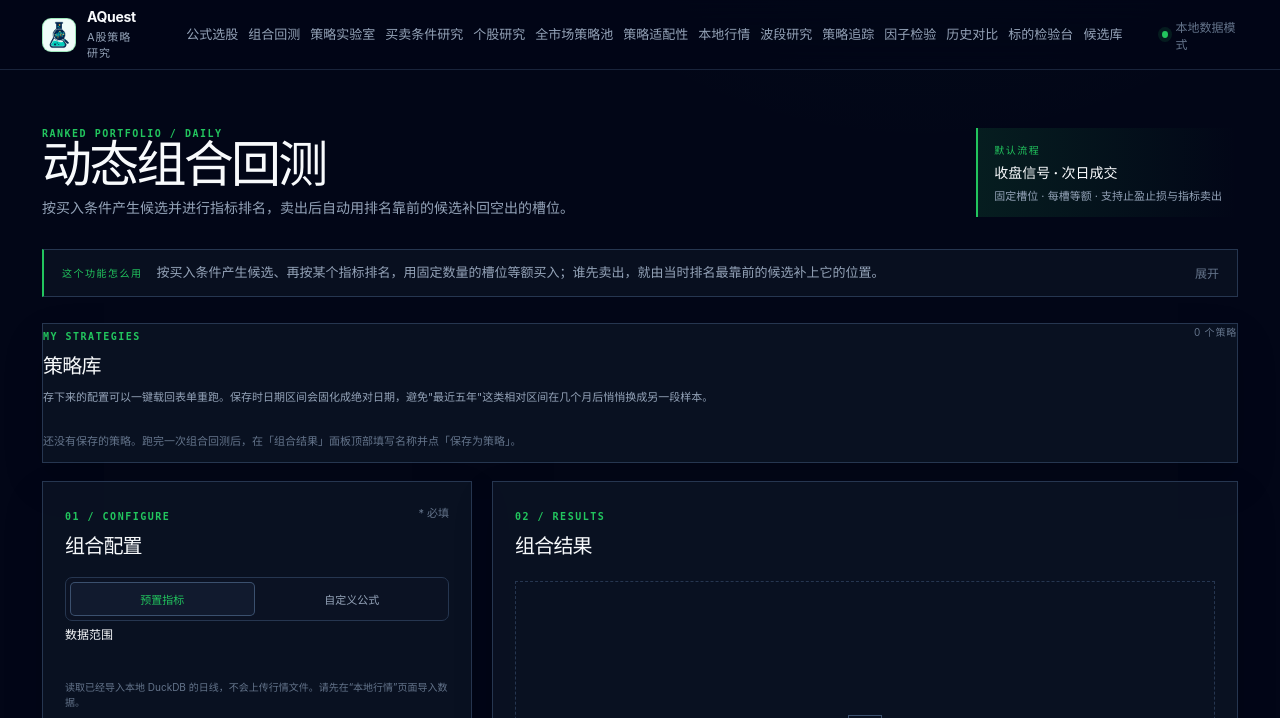
Scenario: PortfolioBacktestPage › parses custom formula outputs and invalidates selections after editing
Step 1. Click the tab with test id "portfolio-mode-custom" → [352, 599], box [260,582,444,616]
(page scrolled)
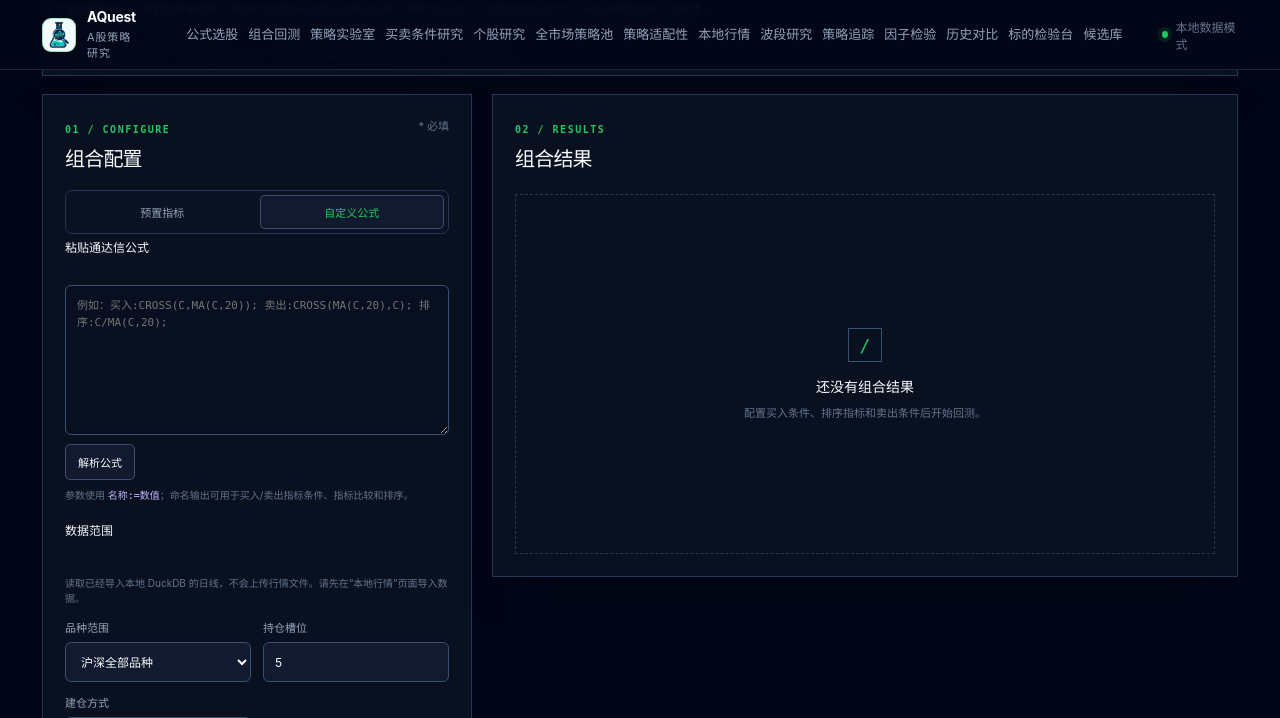
Step 2. Replace the text in the text box with test id "portfolio-formula" with "N:=5; 买入:C>10; 卖出:C<10; 排序:C;" → [257, 360], box [65,285,449,435]
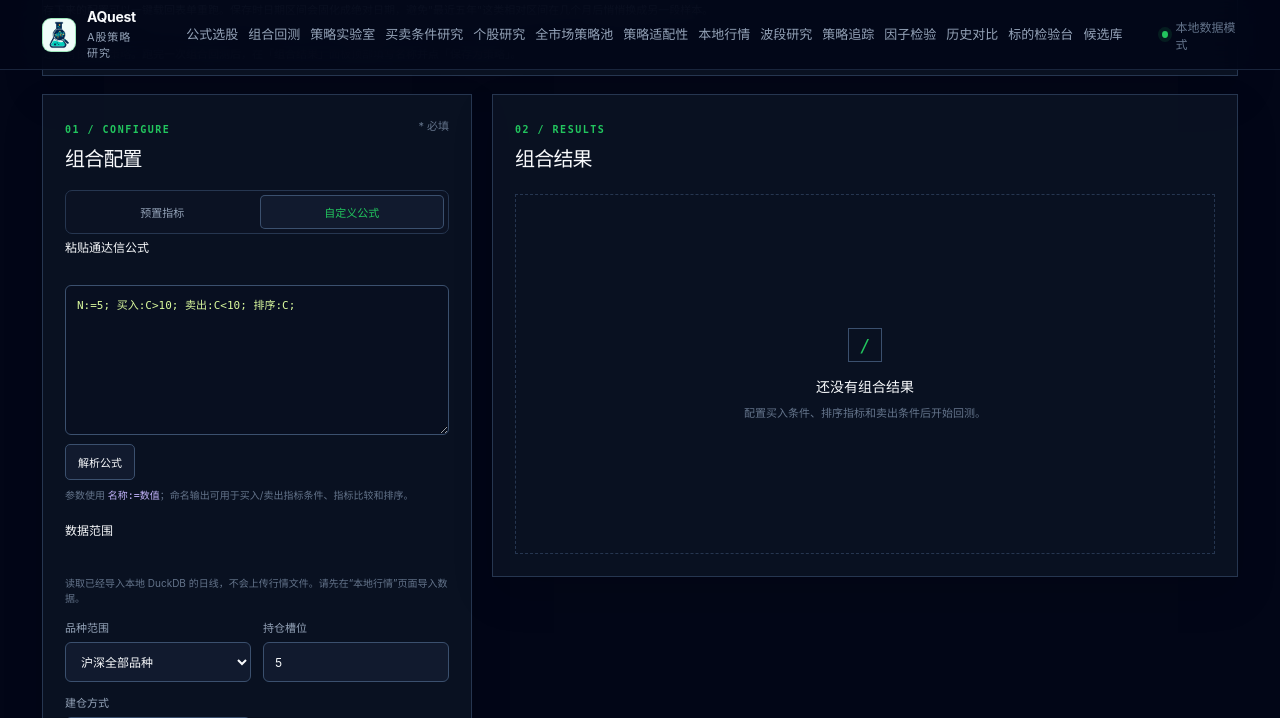
Step 3. Click the button with test id "portfolio-parse-formula" → [100, 462], box [65,444,135,480]
(page scrolled)
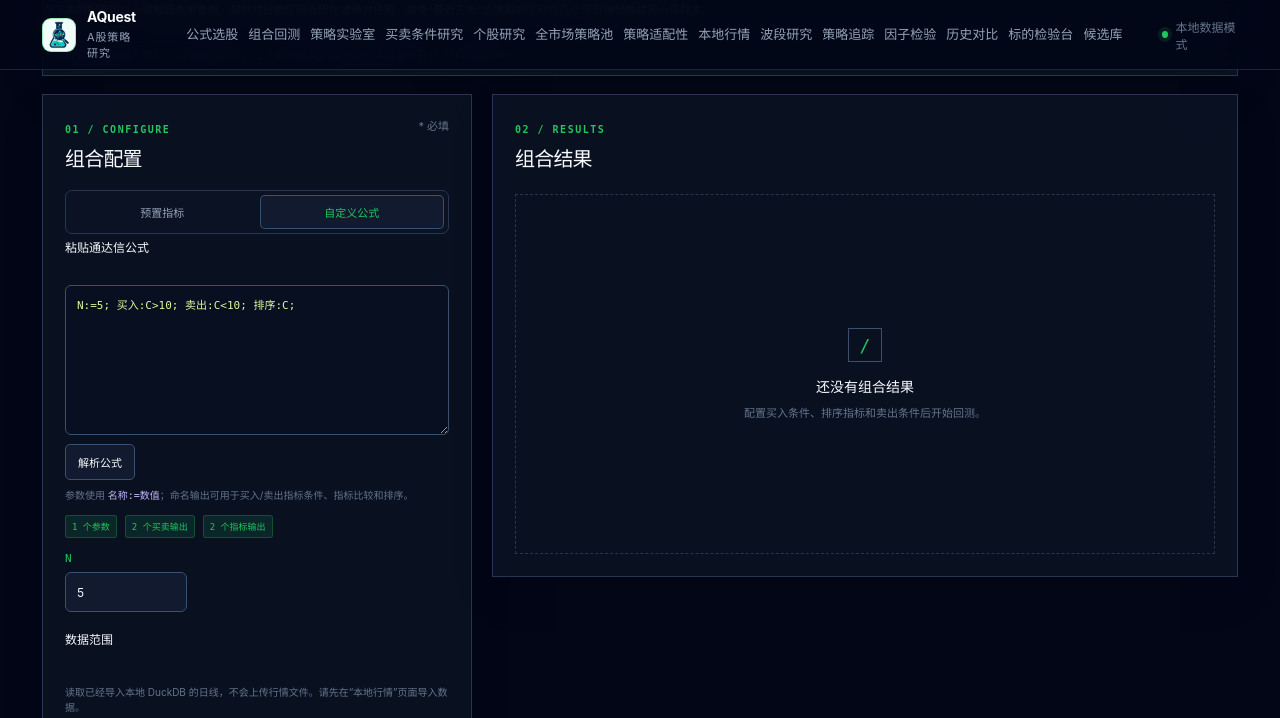
expect the number field with test id "portfolio-param-N" is shown: met, box [65,572,187,612]
Step 4. Replace the text in the text box with test id "portfolio-formula" with "N:=8; 买入:C>10; 卖出:C<10; 排序:C;" → [257, 360], box [65,285,449,435]
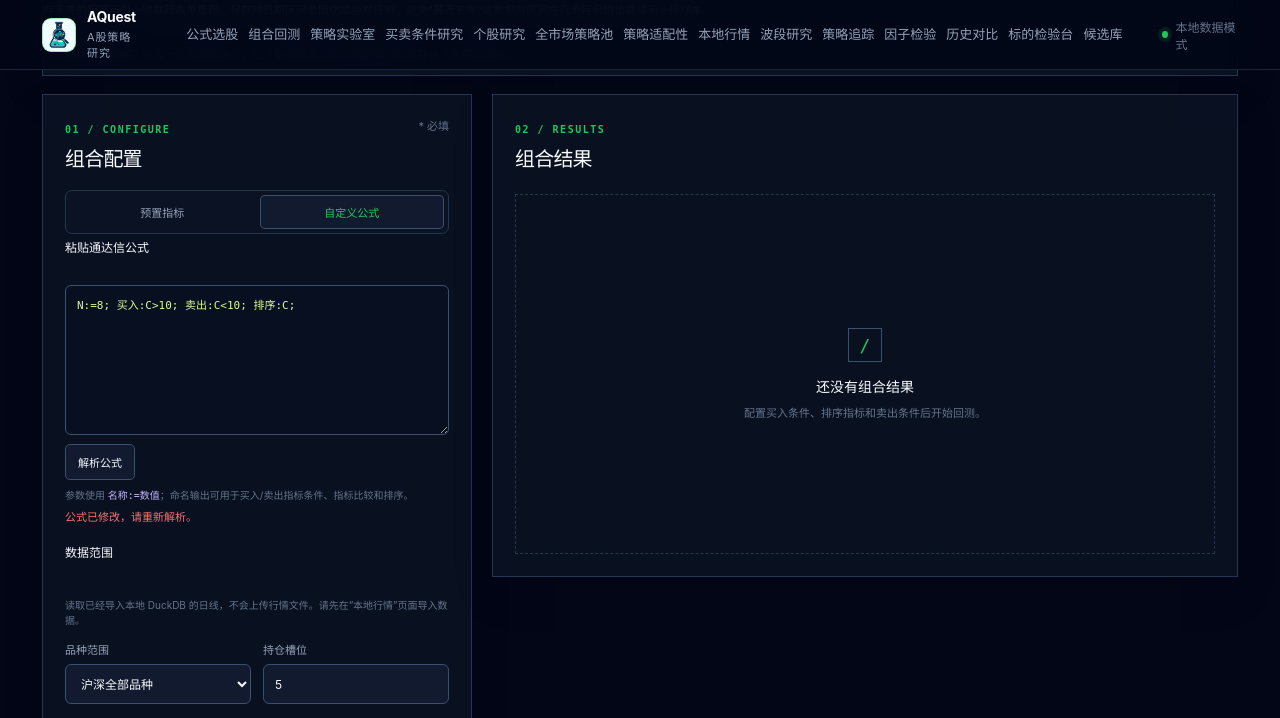
expect the text "公式已修改，请重新解析" is shown: met, box [65,510,197,524]
Step 5. Click the tab with test id "portfolio-mode-preset" → [162, 212], box [70,195,254,229]
(page scrolled)
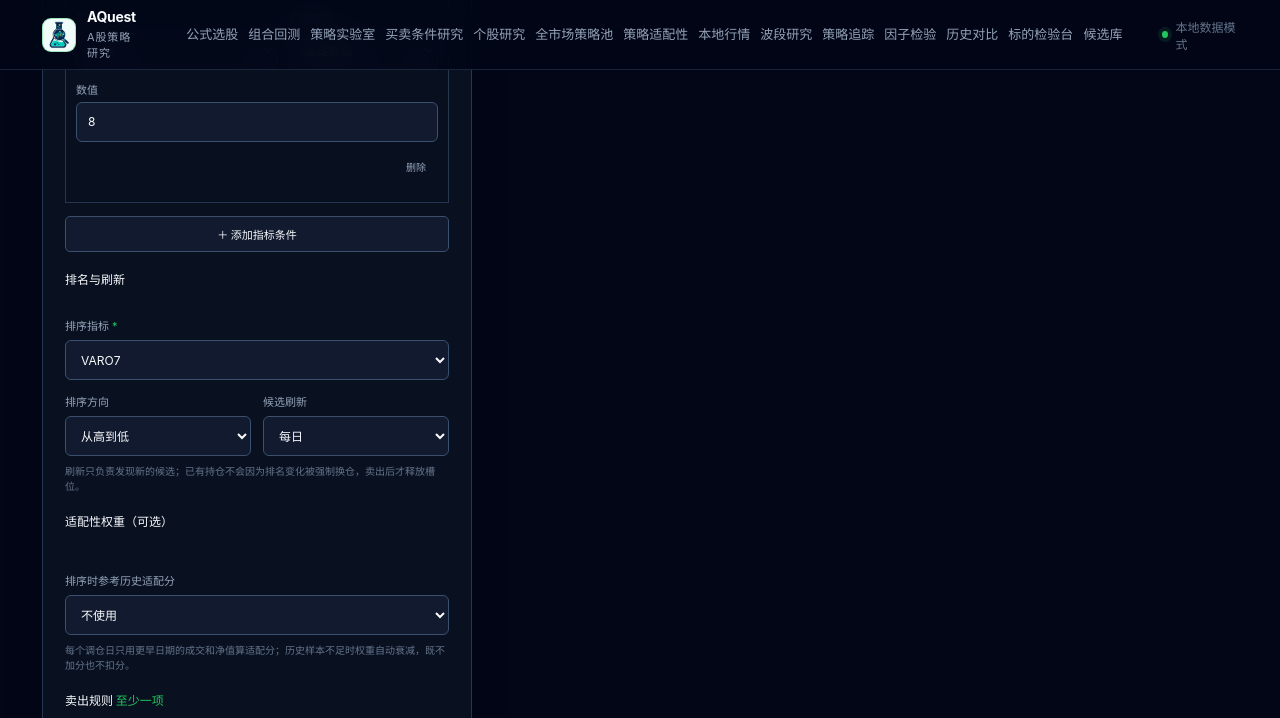
expect the dropdown with test id "portfolio-ranking-value" shows "VARO7": met, box [65,340,449,380]
